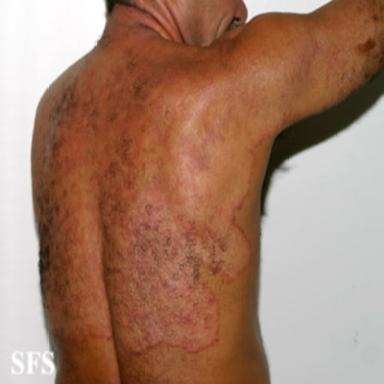Tinea-Corporis: (33, 21, 321, 354)
